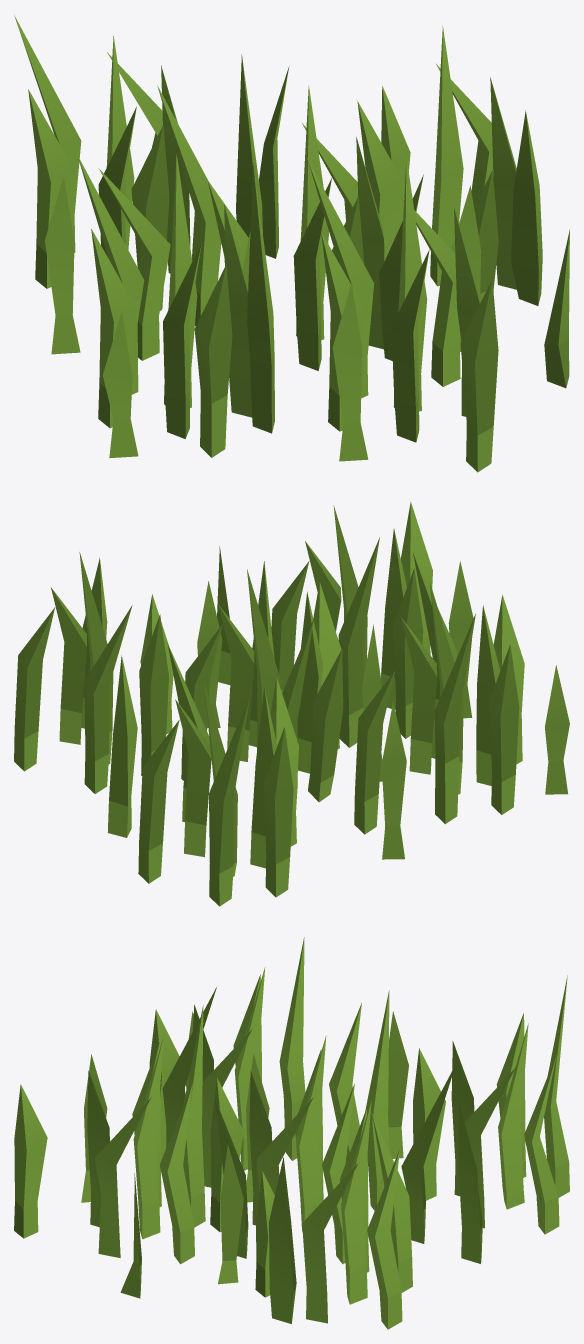
File: model_polytope_long_grass_patch.fbx
The picture shows the model from 3 angles, top to bottom: view 1: azimuth 30°, elevation 25°; view 2: azimuth 150°, elevation 25°; view 3: azimuth 270°, elevation 25°; orthographic projection. The views are drawn at different scales.
Visible parts, largest first — view 1: model_polytope_long_grass_patch; view 2: model_polytope_long_grass_patch; view 3: model_polytope_long_grass_patch.
Part boxes in pixels (x1,y1,x2,y2): model_polytope_long_grass_patch: (14,15,569,472); model_polytope_long_grass_patch: (14,501,569,906); model_polytope_long_grass_patch: (14,937,569,1329).
Bounding box in the file's own units: 132 × 60.38 × 149.
Materials: 1 (1 with a texture image).
